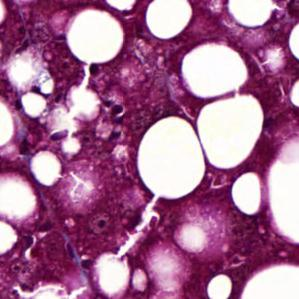steatosis: (147, 0, 192, 38), (206, 273, 233, 299)
